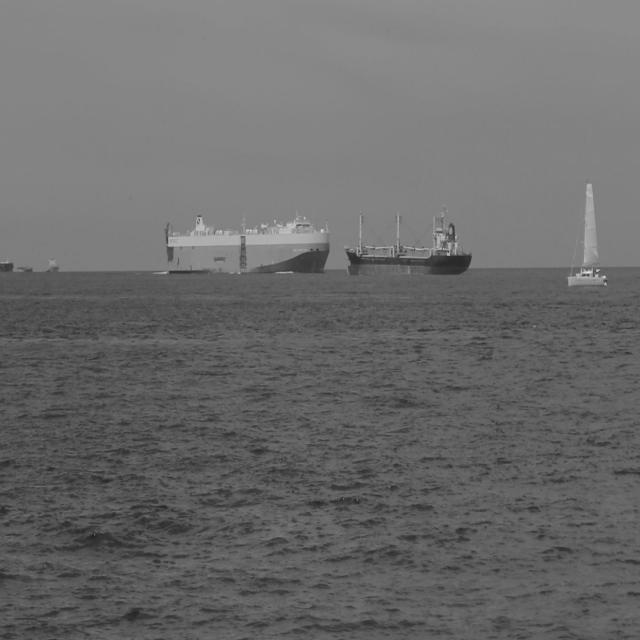ship: (163, 208, 331, 274), (342, 200, 474, 278), (566, 178, 609, 288), (45, 252, 59, 274), (0, 256, 15, 275), (15, 262, 34, 274)
